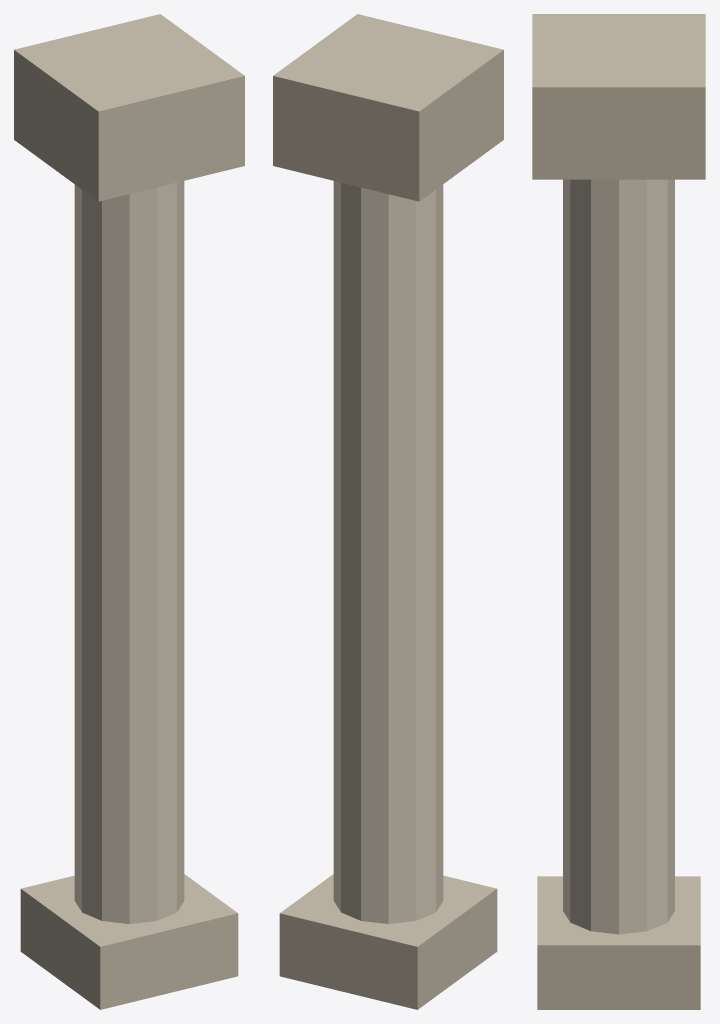
Rendered from column.glb.
3 views of the same model, side by side, from view 1: azimuth 30°, elevation 25°; view 2: azimuth 150°, elevation 25°; view 3: azimuth 270°, elevation 25° (orthographic). The views are drawn at different scales.
Visible parts, largest first — view 1: column; view 2: column; view 3: column.
Boxes of the visible parts, bbox=[...] form: column: bbox=[14, 14, 244, 1009]; column: bbox=[273, 14, 503, 1009]; column: bbox=[532, 14, 705, 1009].
Bounding box in the file's own units: 0.17 × 1 × 0.17.
